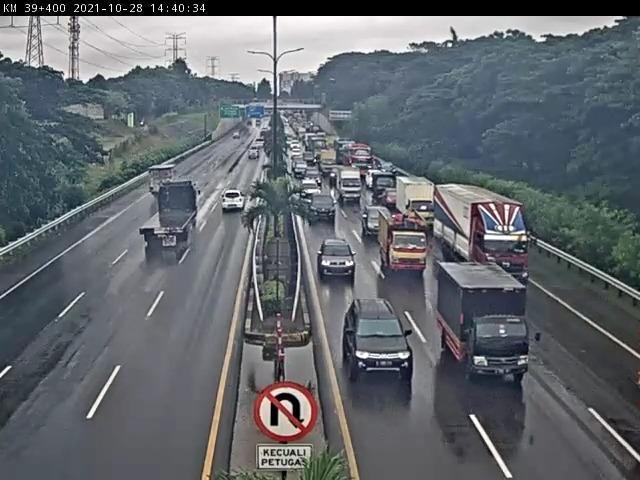car: (342, 298, 416, 378), (319, 238, 361, 281), (309, 194, 337, 225), (363, 204, 392, 231), (223, 191, 248, 211)
truck: (435, 260, 531, 380), (437, 187, 531, 284), (141, 183, 203, 247), (379, 214, 431, 273), (395, 176, 439, 228), (336, 171, 367, 204), (149, 163, 179, 195)
